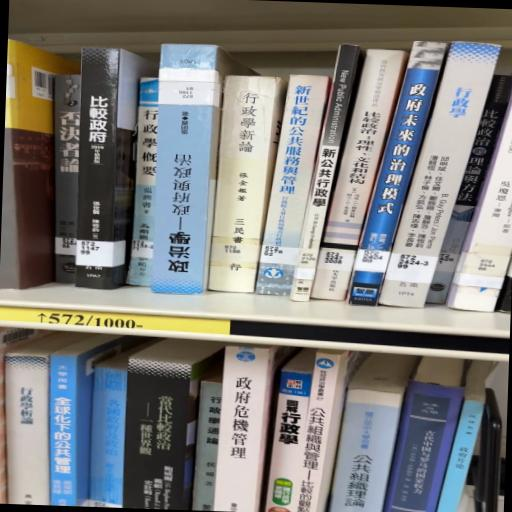book: (381, 42, 500, 308), (297, 50, 409, 301), (348, 42, 447, 307), (76, 48, 157, 290), (209, 76, 288, 293), (209, 76, 287, 293), (256, 75, 331, 296)
reverse: (152, 45, 258, 295)
